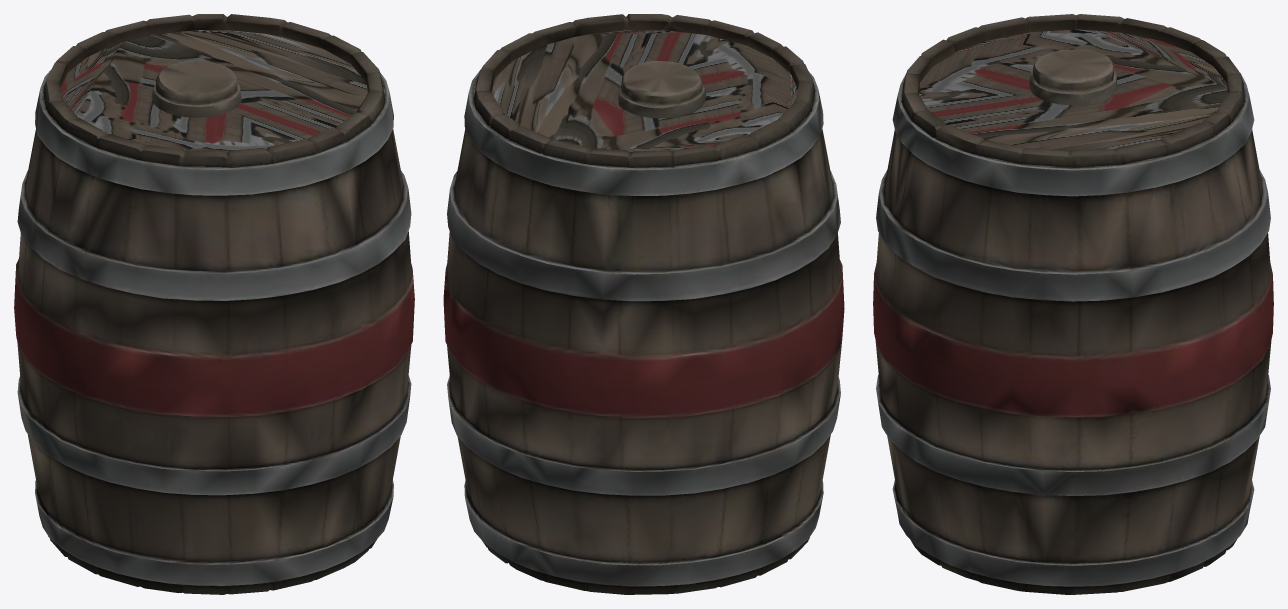
The model's file is powder_keg.glb.
3 renders of one model, left to right at view 1: azimuth 30°, elevation 25°; view 2: azimuth 150°, elevation 25°; view 3: azimuth 270°, elevation 25°, orthographic.
Visible parts, largest first — view 1: model; view 2: model; view 3: model.
Part boxes in pixels (x1,y1,x2,y2): model: [14, 14, 414, 594]; model: [443, 14, 844, 594]; model: [873, 14, 1273, 594].
Size of the model in its own units: 0.8043 by 1 by 0.8043.
Materials: 1 (1 with a texture image).
